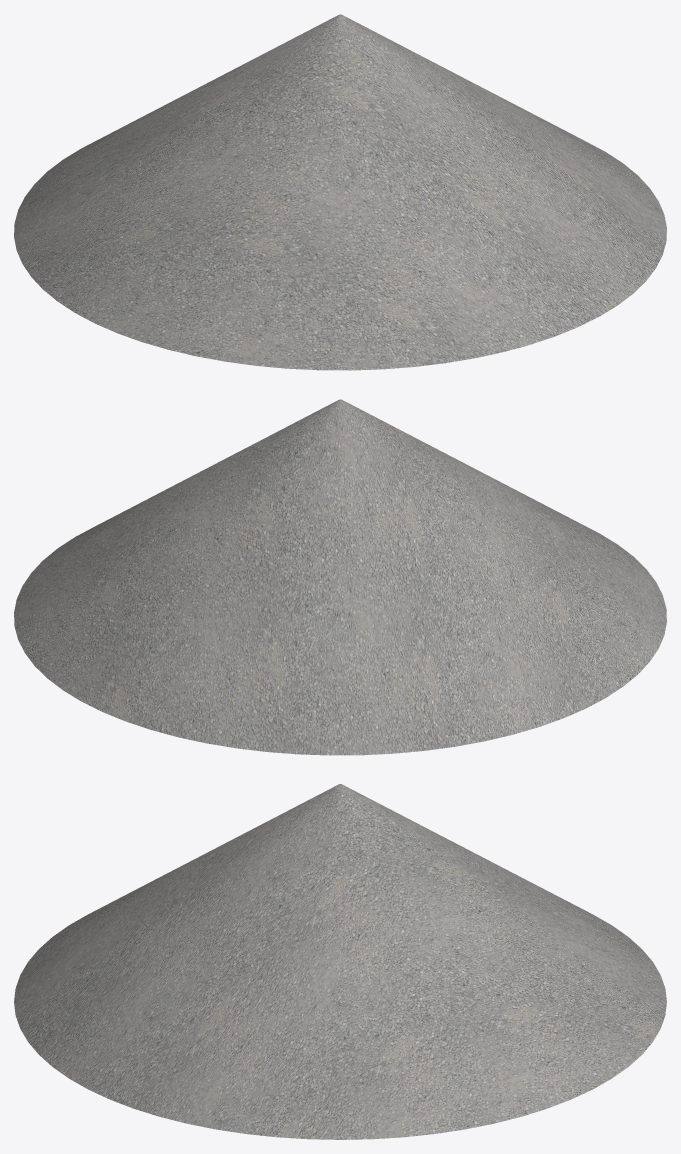
The model's file is erosion.fbx.
3 views of the same model, one above another, from view 1: azimuth 30°, elevation 25°; view 2: azimuth 150°, elevation 25°; view 3: azimuth 270°, elevation 25° (orthographic).
Parts seen in each view (by area): view 1: erosion; view 2: erosion; view 3: erosion.
Part boxes in pixels (bbox=[...]): erosion: bbox=[14, 14, 666, 370]; erosion: bbox=[14, 399, 666, 755]; erosion: bbox=[14, 784, 666, 1139].
Size of the model in its own units: 3000 by 1100 by 3000.
